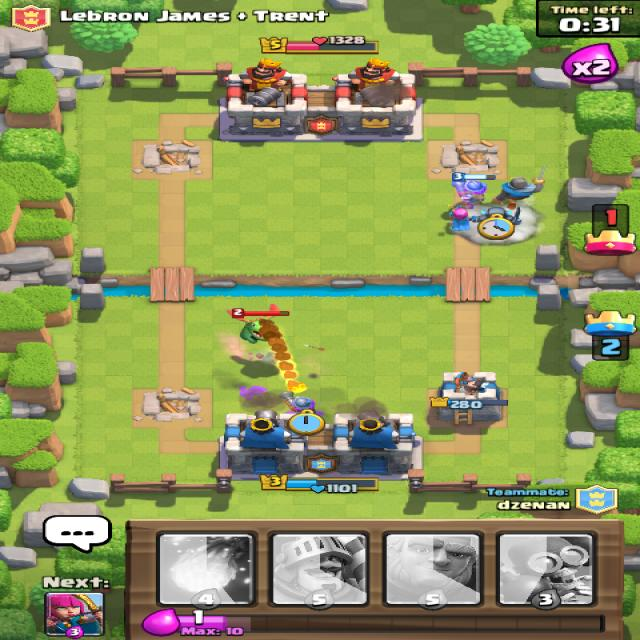Enemy-BabyDragon: (224, 302, 289, 344)
Player-Archer: (444, 203, 471, 231)
Player-Knight: (491, 165, 545, 208)
Player-MiniPEKKA: (472, 206, 523, 226)
Player-Musketeer: (449, 171, 495, 203), (277, 389, 316, 414)
